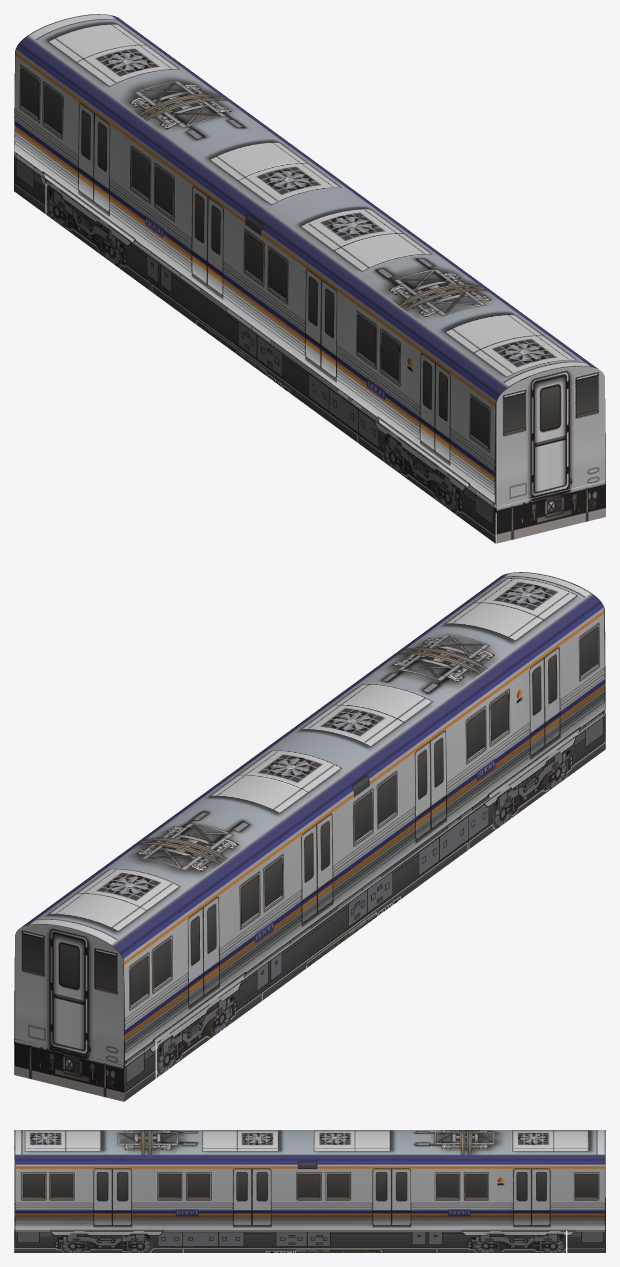
File: car2.glb
3 views of the same model, one above another, from view 1: azimuth 30°, elevation 25°; view 2: azimuth 150°, elevation 25°; view 3: azimuth 270°, elevation 25° (orthographic). The views are drawn at different scales.
Parts seen in each view (by area): view 1: nankai-6200-car2; view 2: nankai-6200-car2; view 3: nankai-6200-car2.
Boxes of the visible parts, x1=… form: nankai-6200-car2: x1=14, y1=14, x2=605, y2=543; nankai-6200-car2: x1=14, y1=572, x2=605, y2=1101; nankai-6200-car2: x1=14, y1=1130, x2=605, y2=1252.
Size of the model in its own units: 2.74 by 3.8 by 20.75.
9 materials, 8 textured.
